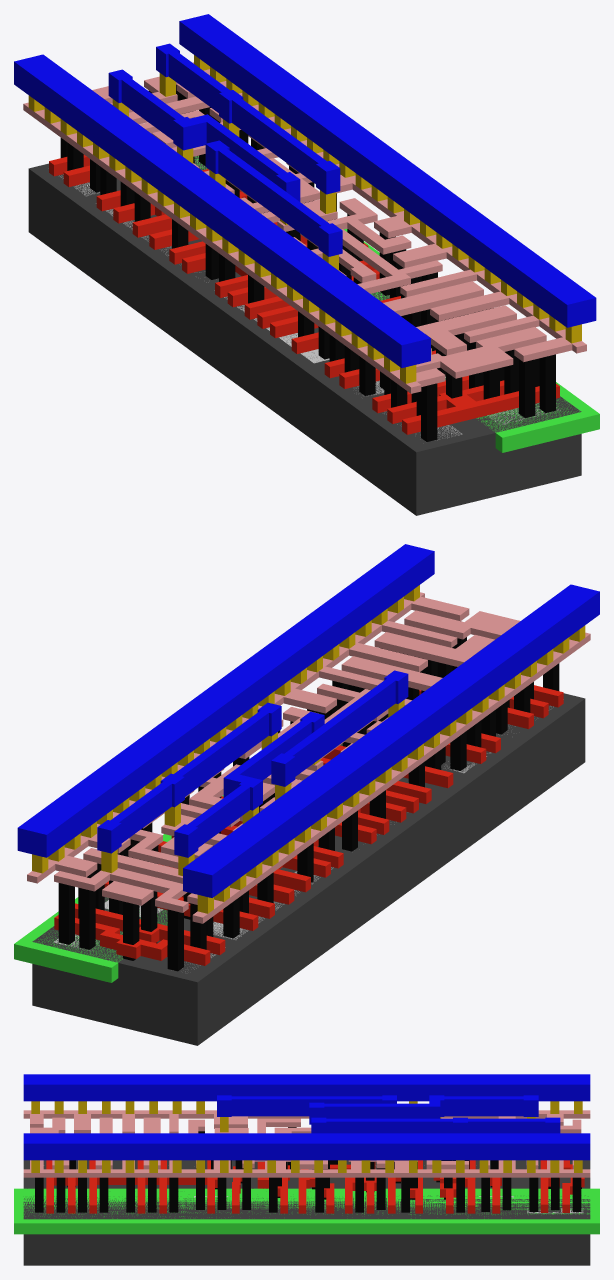
The model's file is sky130_fd_sc_hd__dfsbp_2.obj.
3 renders of one model, top to bottom at view 1: azimuth 30°, elevation 25°; view 2: azimuth 150°, elevation 25°; view 3: azimuth 270°, elevation 25°, orthographic. The views are drawn at different scales.
Visible parts, largest first — view 1: metal1, subs, li, licon, poly, mcon, nwell, diff; view 2: metal1, subs, li, licon, poly, mcon, nwell; view 3: metal1, subs, nwell, li, licon, poly, mcon.
Part boxes in pixels (x1,y1,x2,y2): metal1: (14,14,596,367); subs: (28,155,581,515); li: (23,62,586,393); licon: (60,84,555,441); poly: (49,154,559,434); mcon: (28,55,581,383); nwell: (194,156,599,452); diff: (59,174,462,440); metal1: (17,544,599,897); subs: (32,693,585,1045); li: (27,592,590,923); licon: (58,637,559,971); poly: (54,685,563,965); mcon: (32,585,585,913); nwell: (14,795,223,982); metal1: (23,1074,590,1160); subs: (23,1160,590,1265); nwell: (14,1188,599,1234); li: (23,1110,590,1177); licon: (35,1127,581,1212); poly: (46,1160,584,1213); mcon: (31,1101,582,1172).
Bounding box in the file's own units: 3.2 × 2.74 × 11.42.
